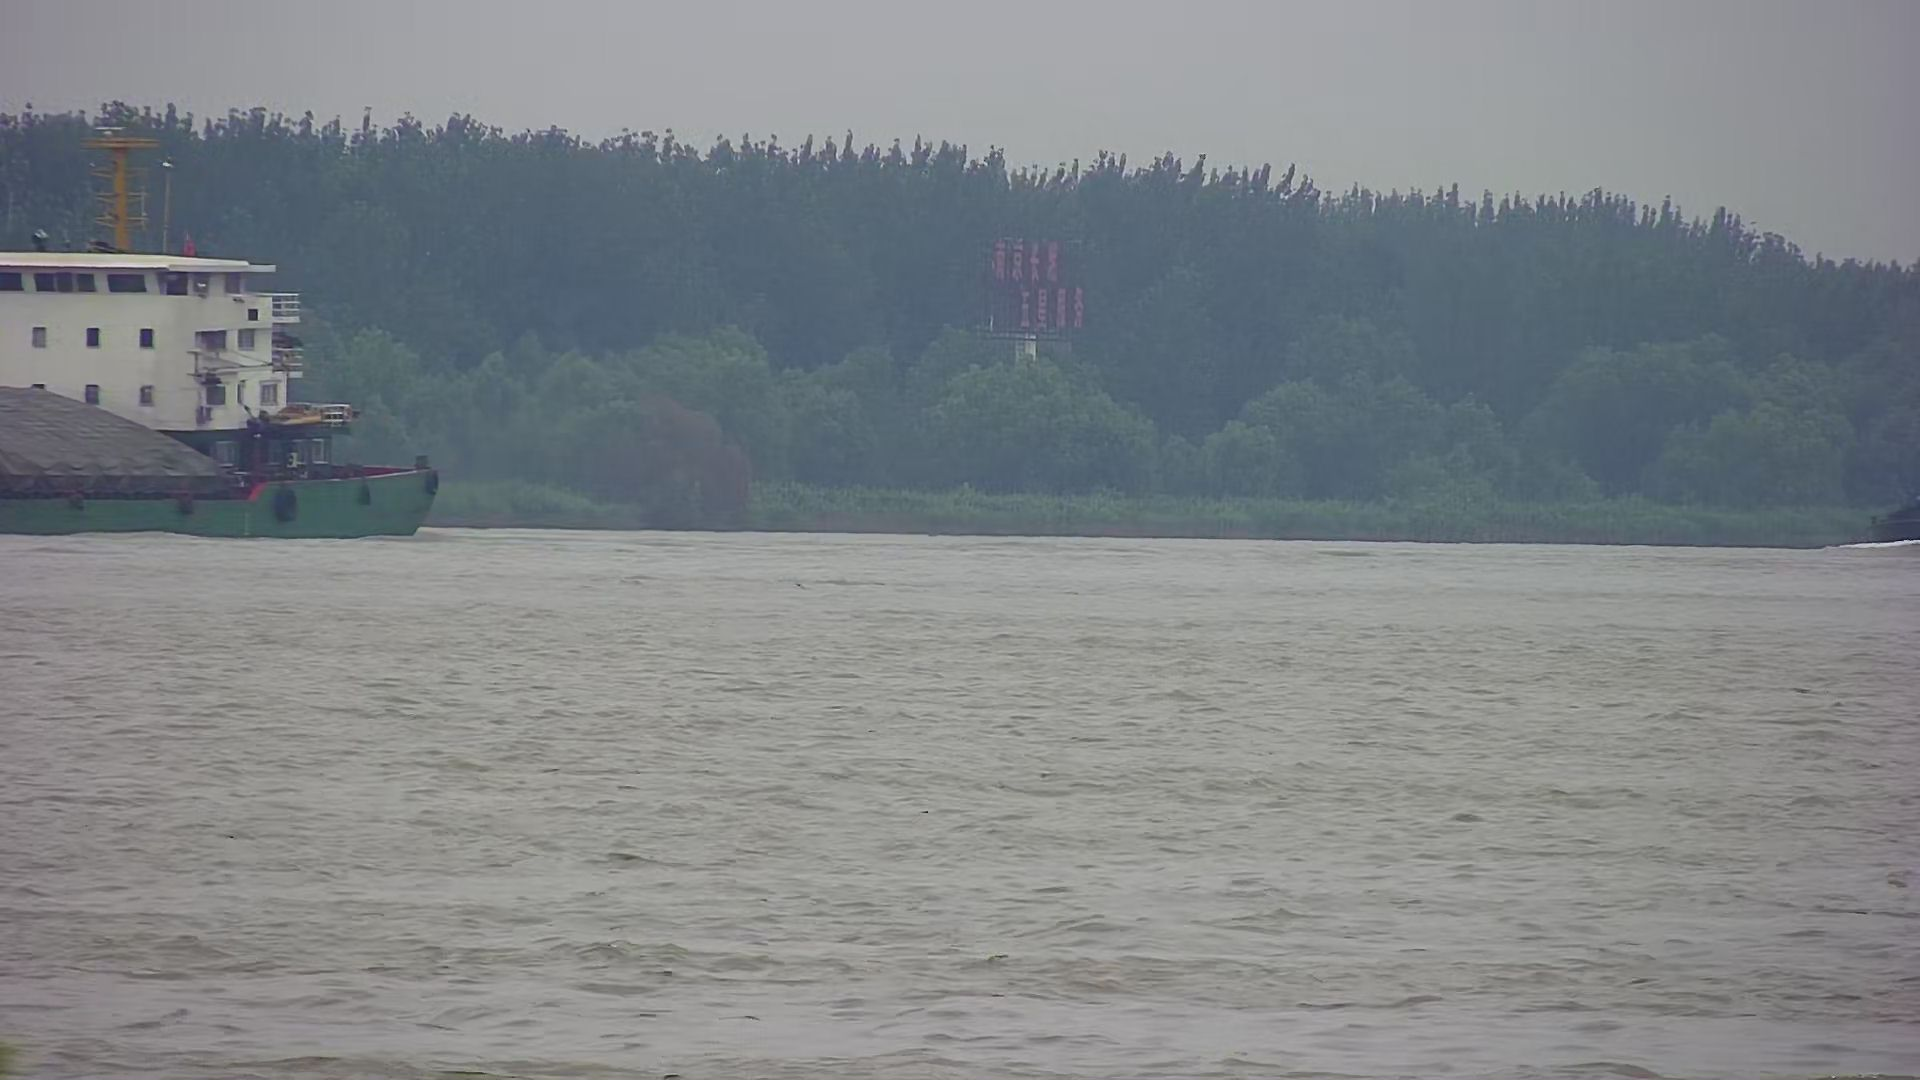ship: (1, 109, 448, 550)
